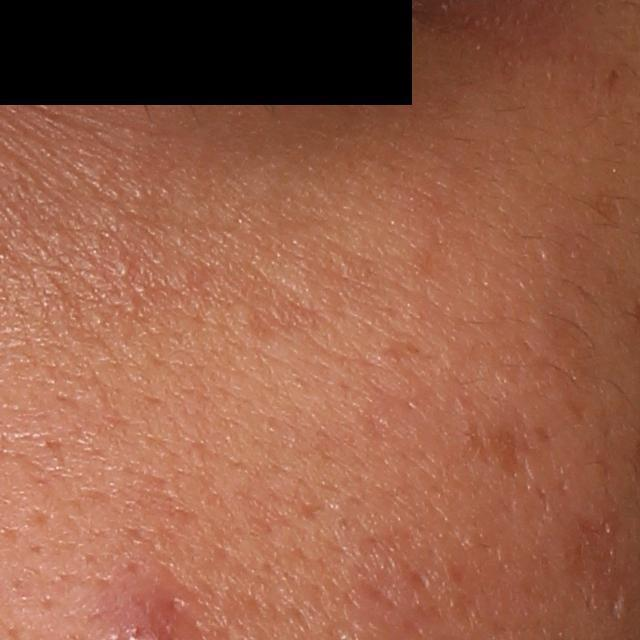comedo: (111, 259, 132, 281)
